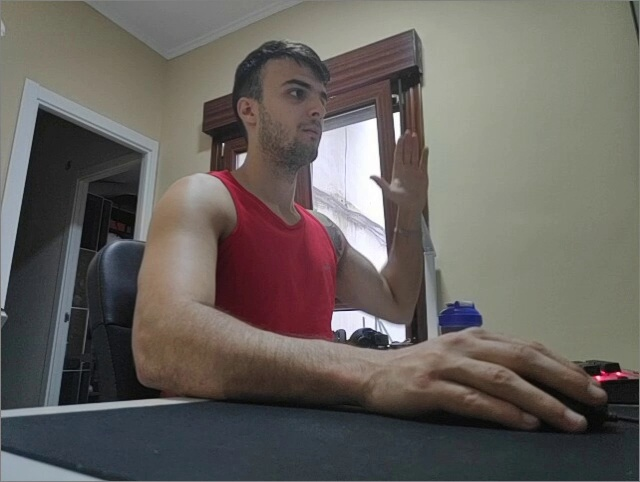Palm: (368, 128, 430, 210)
